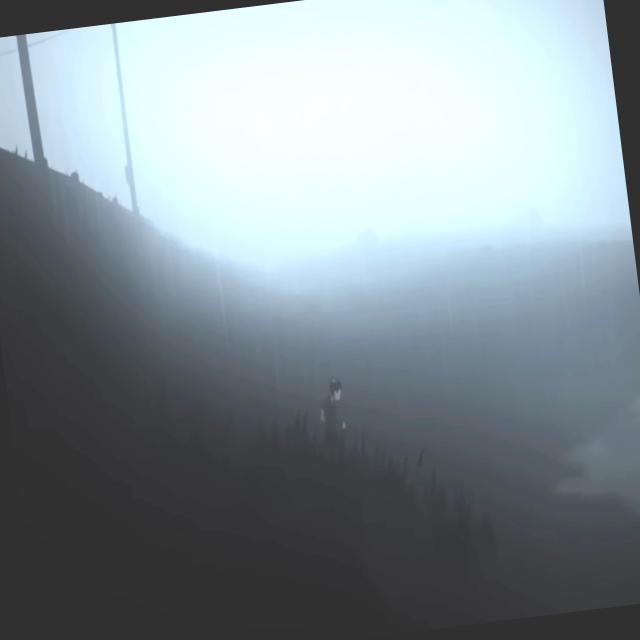boy: (315, 376, 348, 435)
